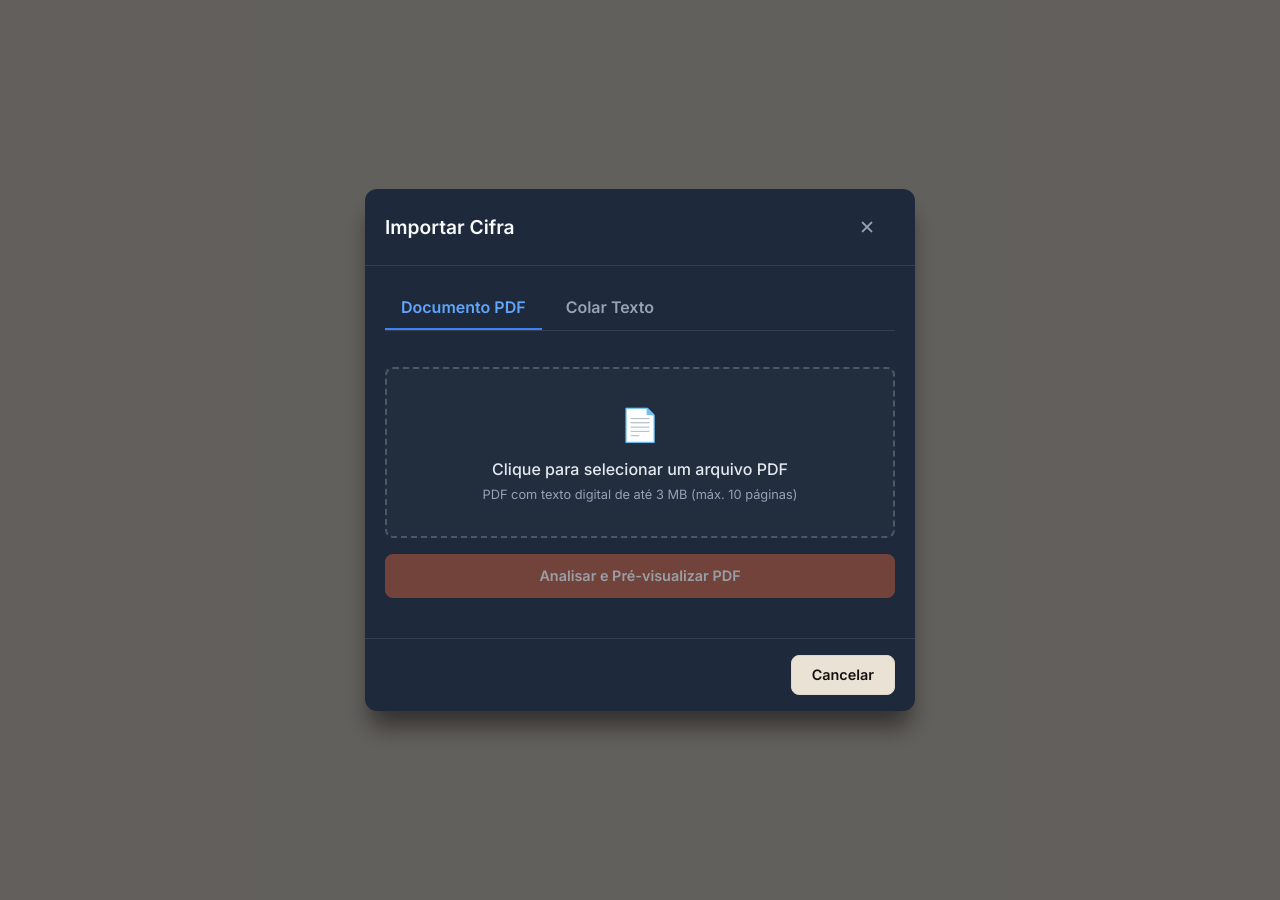
Scenario: SmartChordImportModal Component › Instrumental Bar Progression Preview Rendering › hides structural opening and closing brackets in the aligned preview tab
Click the button "Colar Texto". click: (610, 308)
box: x1=550 y1=286 x2=670 y2=330
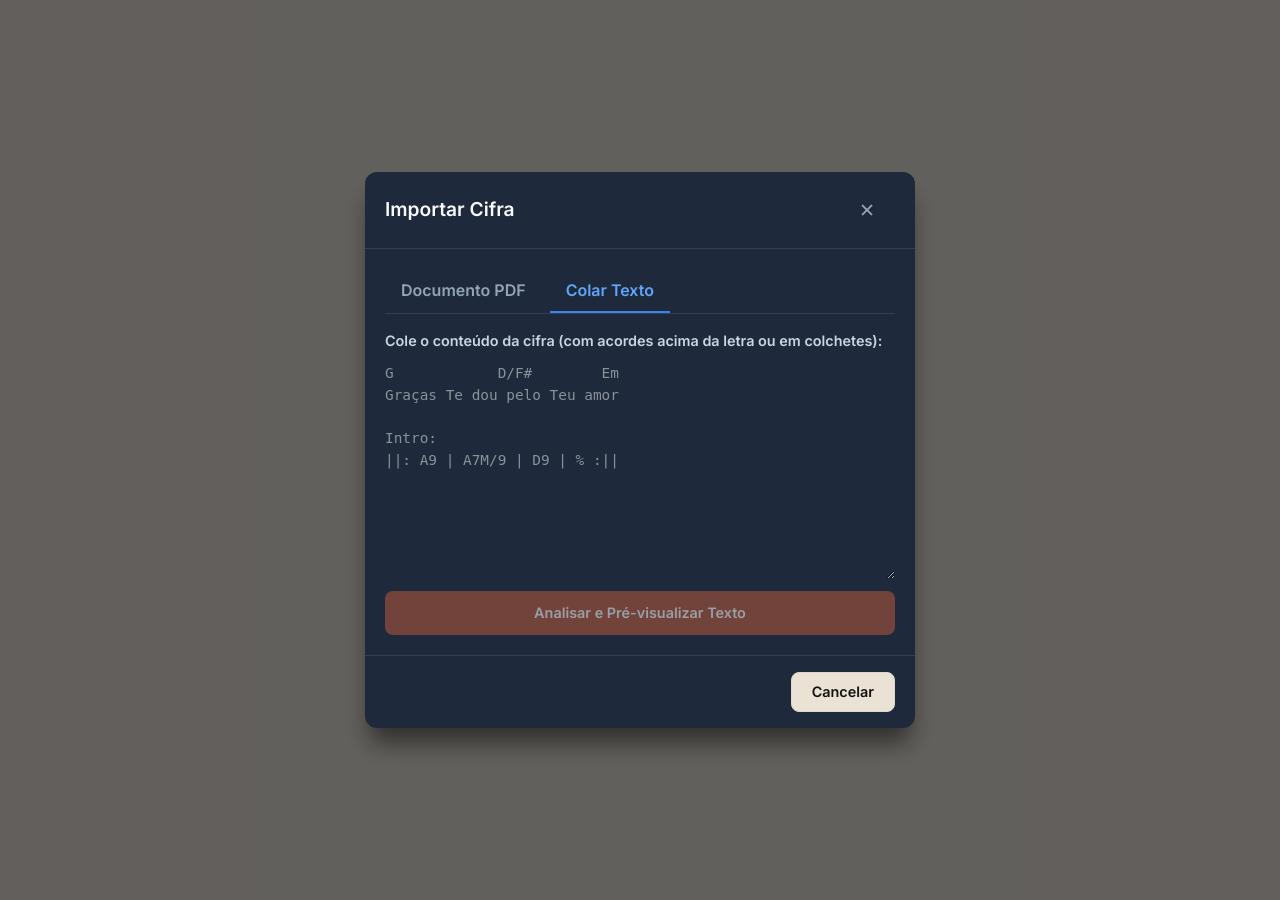
Replace the text in the text box with "Intro: [||: A9 | A7M/9 | D9 | % :||]". click: (640, 471)
box: x1=385 y1=363 x2=895 y2=579
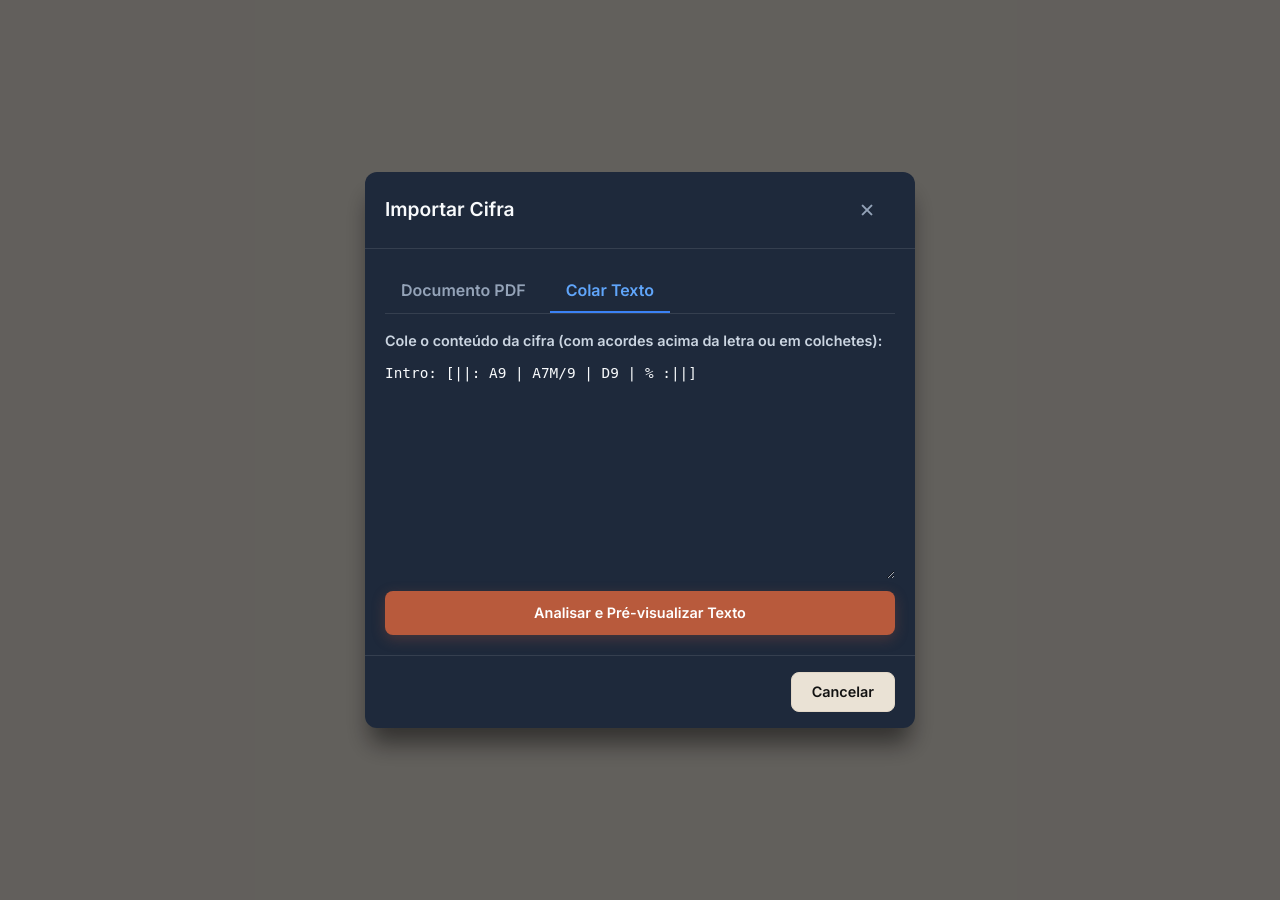
Click the button "Analisar e Pré-visualizar Texto". click: (640, 613)
box: x1=385 y1=591 x2=895 y2=635
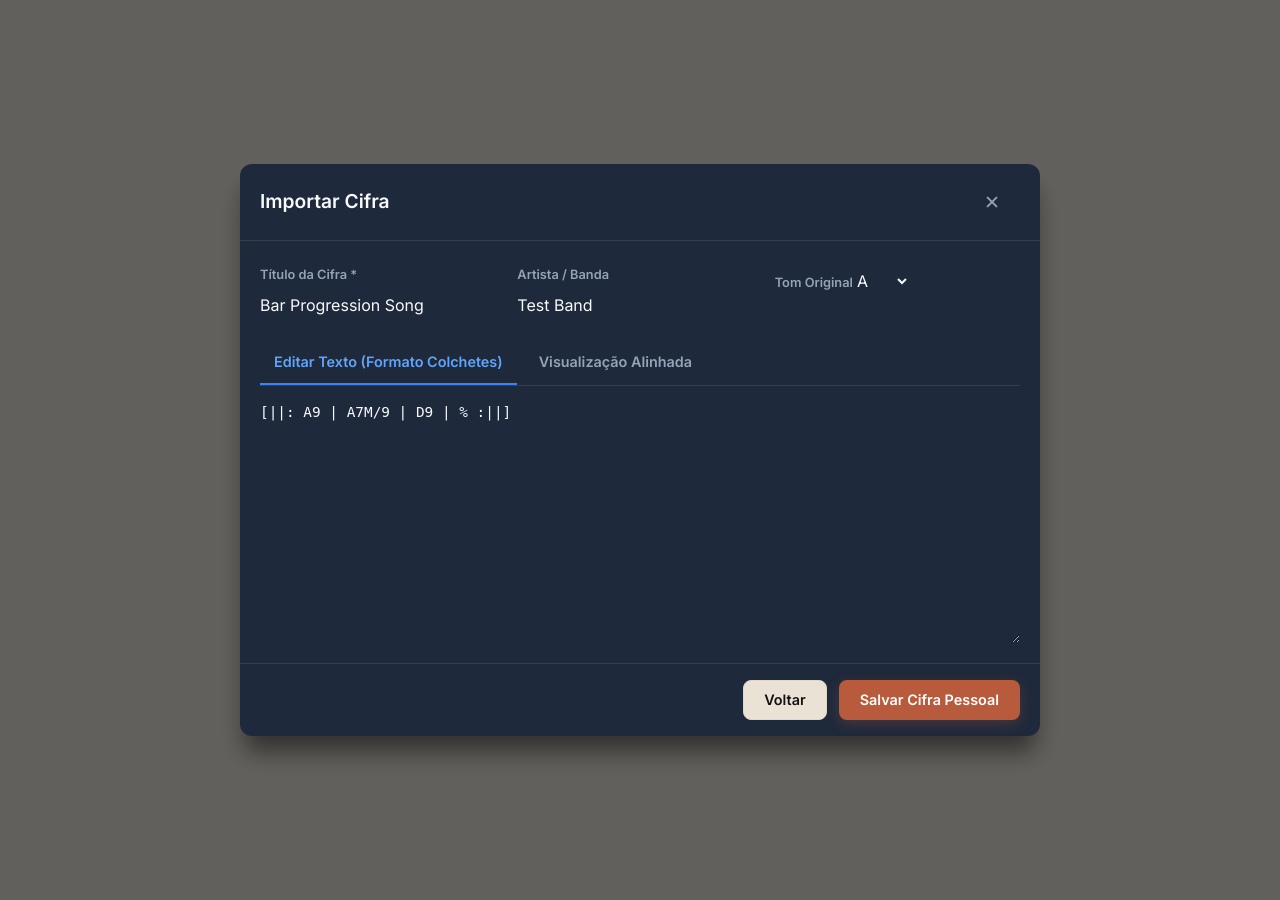
Now the field showing "Bar Progression Song" below "Título da Cifra *" is shown, box x1=260 y1=285 x2=494 y2=325
// Switch to aligned preview tab
Click the button "Visualização Alinhada". click: (615, 363)
box: x1=525 y1=341 x2=706 y2=385
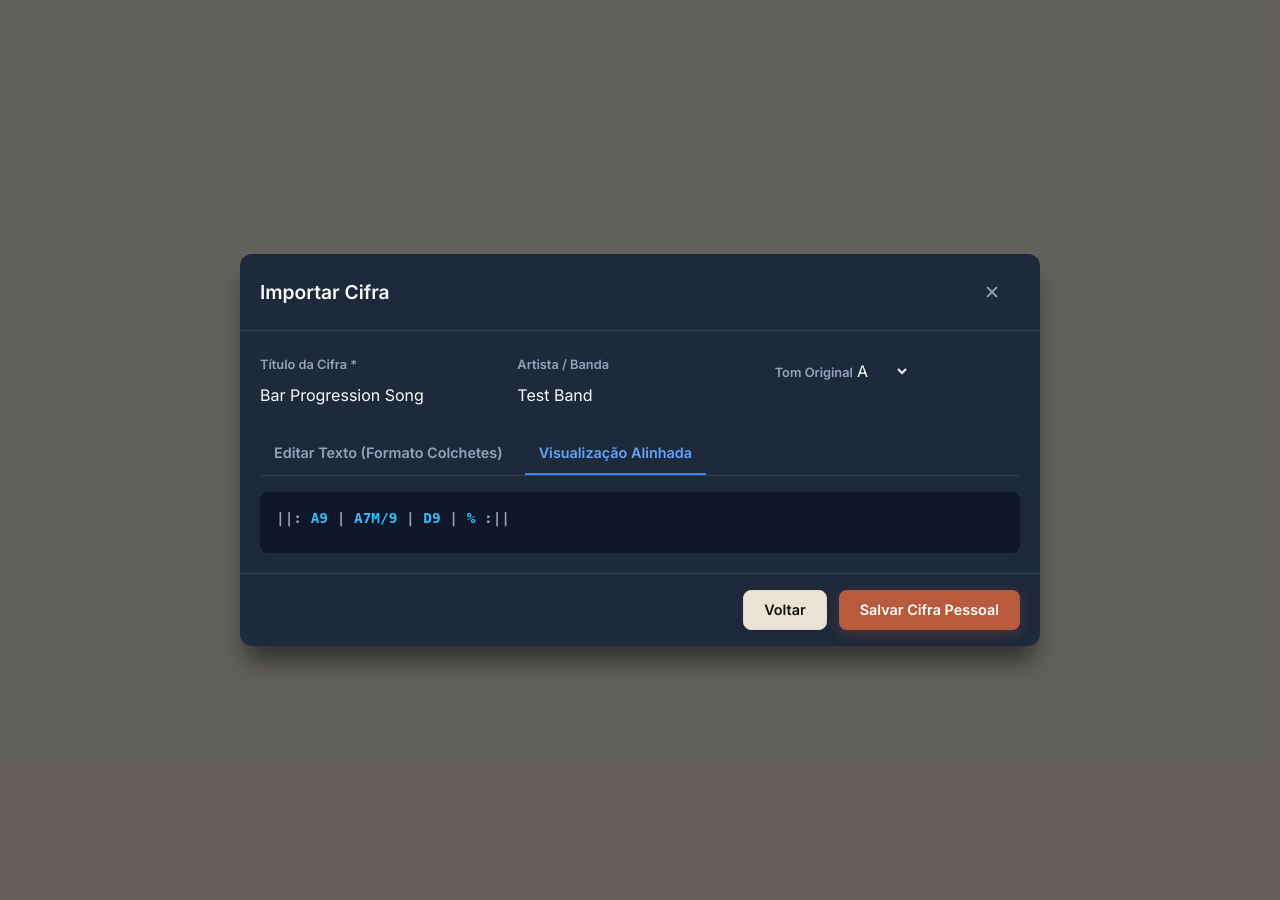
Now the text "A9" is shown, box x1=311 y1=510 x2=328 y2=526
Now the text "A7M/9" is shown, box x1=354 y1=510 x2=397 y2=526
Now the text "D9" is shown, box x1=423 y1=510 x2=441 y2=526
